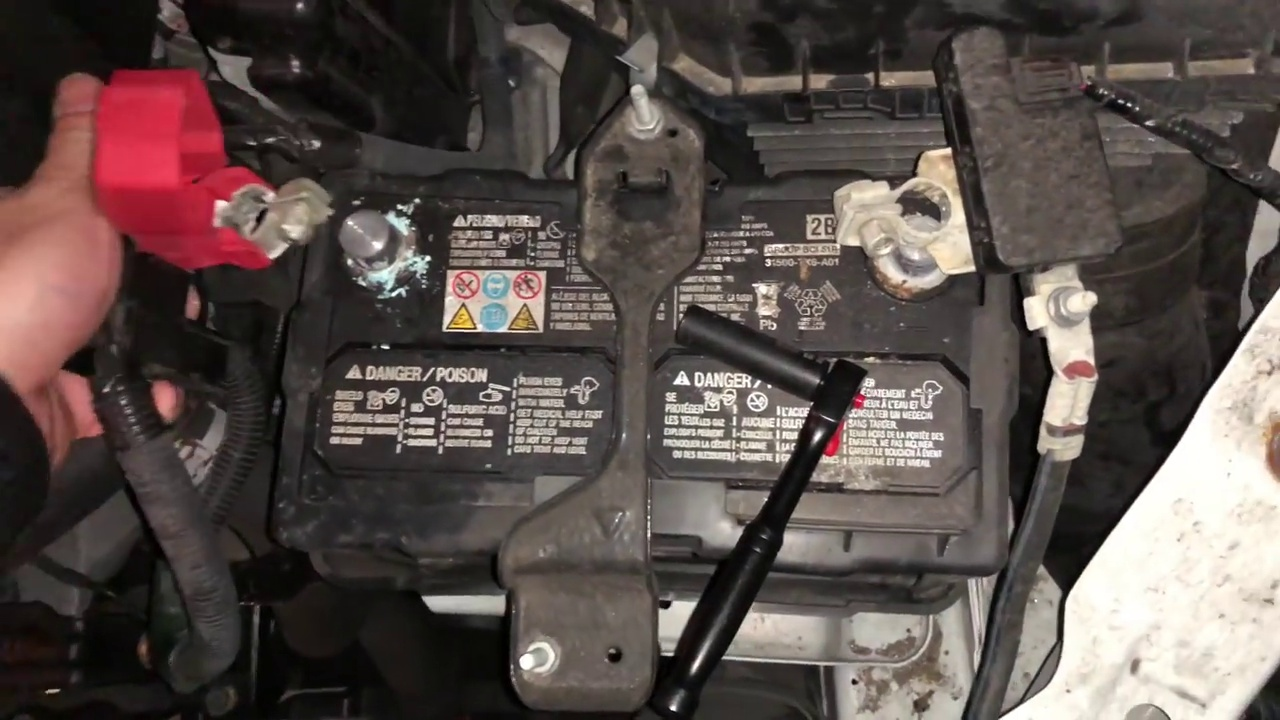battery: (267, 171, 1017, 578)
neg_disconnected: (816, 144, 994, 304)
pos_disconnected: (167, 137, 422, 307)
pos_touched: (28, 66, 413, 285)
